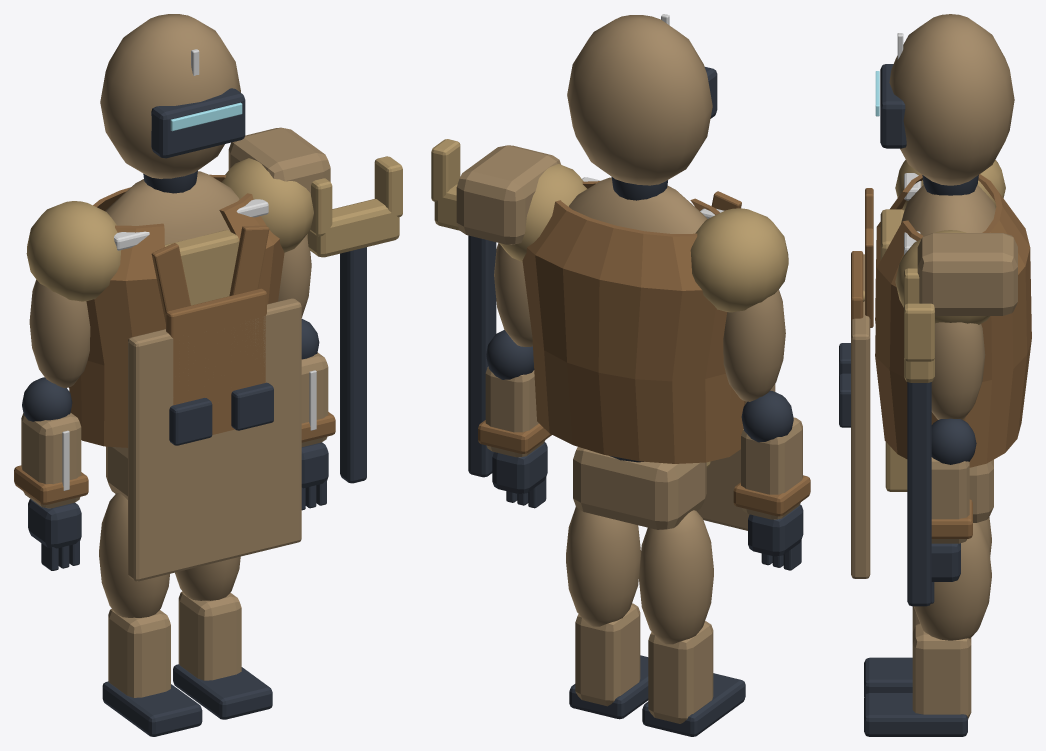
The model's file is steward.glb.
3 renders of one model, left to right at view 1: azimuth 30°, elevation 25°; view 2: azimuth 150°, elevation 25°; view 3: azimuth 270°, elevation 25°, orthographic. The views are drawn at different scales.
Visible parts, largest first — view 1: Broad workshop apron, Helmet, Artisan apron, Artisan apron bib, Shoulder R, Maintenance tool handle, Articulated thorax, Shin L, Shin R, Upper arm R, Thigh R, Shoulder L (+24 smaller); view 2: Artisan apron, Helmet, Pelvis, Shoulder R, Thigh R, Thigh L, Tool shoulder case, Maintenance tool handle, Upper arm R, Shin L, Shin R, Articulated thorax (+16 smaller); view 3: Helmet, Artisan apron, Tool shoulder case, Maintenance tool handle, Broad workshop apron, Thigh L, Shin L, Upper arm L, Foot L, Articulated thorax, Bracer L, Elbow L (+18 smaller).
Boxes of the visible parts, x1,y1,x2,y2 form: Broad workshop apron: (128,298,301,581); Helmet: (100,14,240,178); Artisan apron: (69,174,284,447); Artisan apron bib: (166,288,266,434); Shoulder R: (26,201,121,301); Maintenance tool handle: (340,247,366,483); Articulated thorax: (105,171,239,244); Shin L: (178,591,241,680); Shin R: (108,608,170,697); Upper arm R: (29,279,90,388); Thigh R: (99,493,169,617); Shoulder L: (221,158,313,252); Artisan apron: (522,181,745,463); Helmet: (567,15,712,185); Pelvis: (573,447,706,529); Shoulder R: (690,208,788,312); Thigh R: (639,510,713,644); Thigh L: (566,507,640,626); Tool shoulder case: (456,145,560,244); Maintenance tool handle: (468,235,496,477); Upper arm R: (723,289,785,401); Shin L: (575,603,640,706); Shin R: (648,621,713,723); Articulated thorax: (569,177,707,233); Helmet: (889,14,1014,185); Artisan apron: (875,174,1031,467); Tool shoulder case: (917,233,1017,315); Maintenance tool handle: (907,382,931,606); Broad workshop apron: (851,254,870,578); Thigh L: (913,522,991,640); Shin L: (912,623,971,719); Upper arm L: (931,322,985,419); Foot L: (864,693,967,736); Articulated thorax: (901,184,995,235); Bracer L: (931,457,969,543); Elbow L: (931,418,976,464).
Size of the model in its own units: 1.22 by 2.2 by 0.5575.
